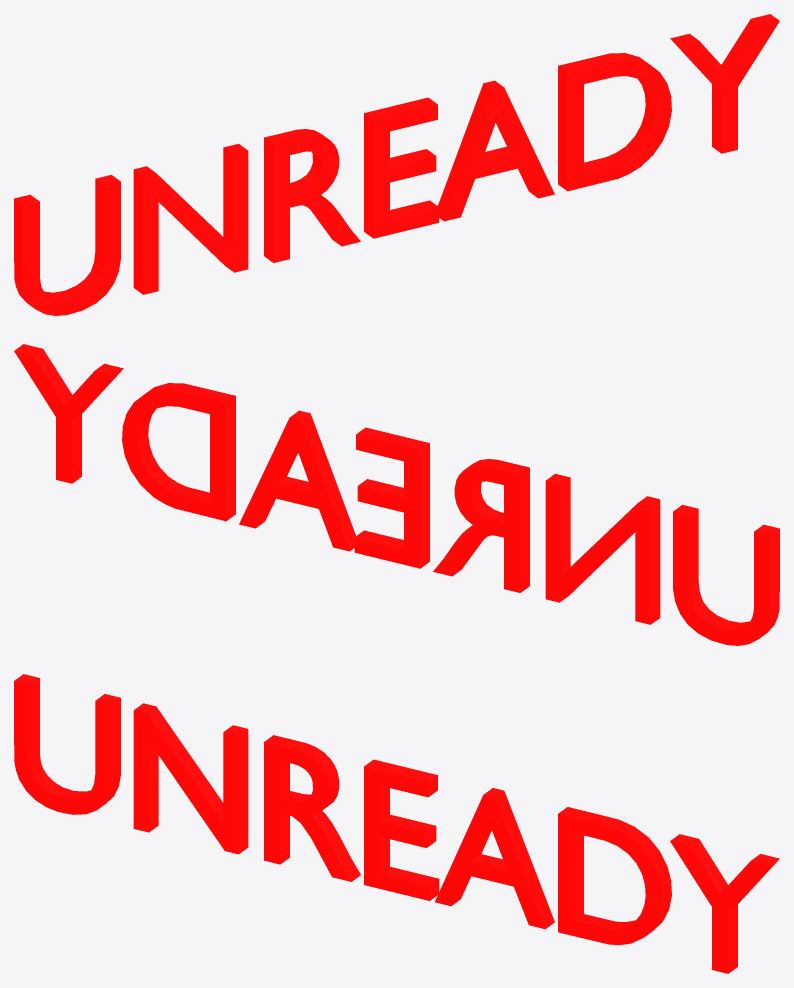
Rendered from text-unready.glb.
3 views of the same model, one above another, from view 1: azimuth 30°, elevation 25°; view 2: azimuth 150°, elevation 25°; view 3: azimuth 330°, elevation 25° (orthographic).
Parts seen in each view (by area): view 1: Text; view 2: Text; view 3: Text.
Boxes of the visible parts, x1,y1,x2,y2 form: Text: (14, 14, 779, 315); Text: (14, 344, 779, 645); Text: (14, 674, 779, 973).
Size of what is drawn, in the model's own units: 4.55 by 0.695 by 0.1.
